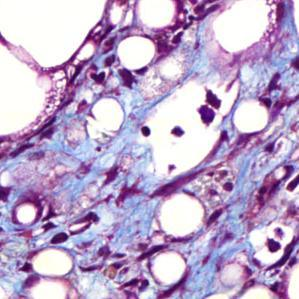steatosis: (115, 34, 159, 71)
